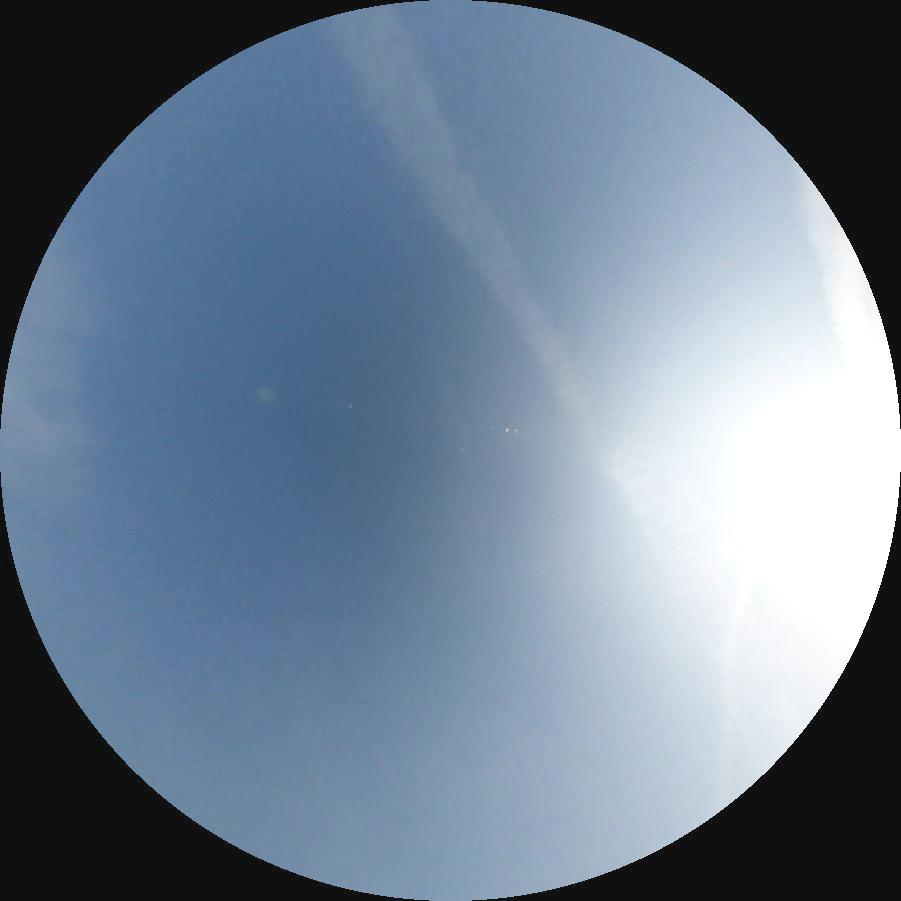contrail old: (701, 514, 782, 806)
contrail veryold: (294, 0, 868, 748), (789, 148, 901, 413)
sun: (760, 395, 901, 555)
